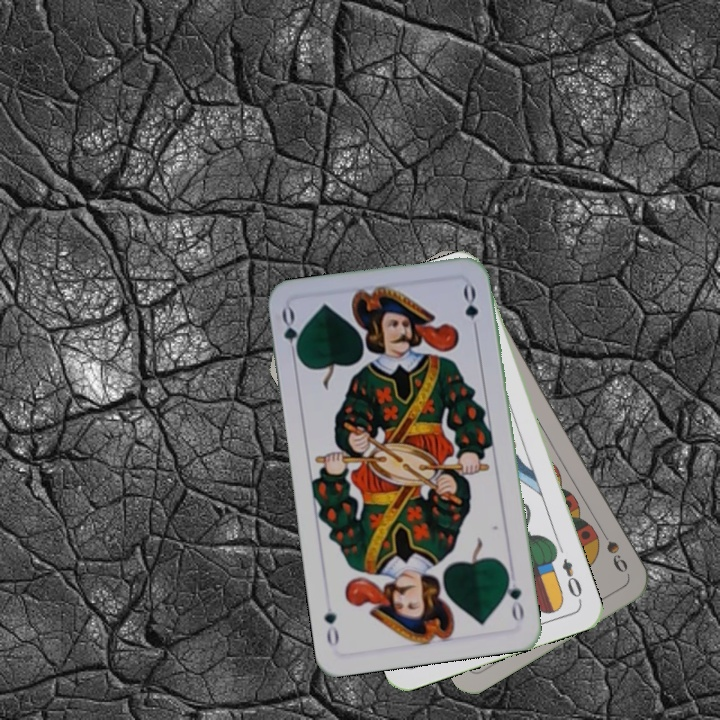EO: (558, 554, 585, 605)
GO: (277, 304, 304, 364), (501, 566, 527, 624)
S9: (594, 522, 631, 576)
